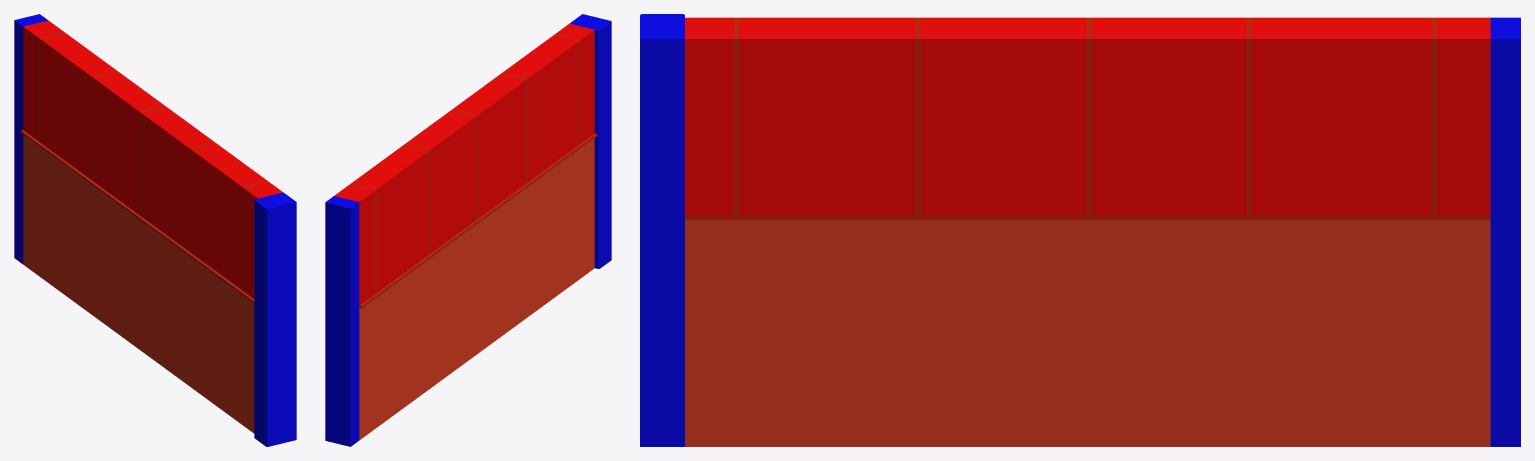
The model's file is BlankWall3.fbx.
3 views of the same model, side by side, from view 1: azimuth 30°, elevation 25°; view 2: azimuth 150°, elevation 25°; view 3: azimuth 270°, elevation 25° (orthographic). The views are drawn at different scales.
Visible parts, largest first — view 1: BlankWall2; view 2: BlankWall2; view 3: BlankWall2.
Part boxes in pixels (x1,y1,x2,y2): BlankWall2: [14, 14, 296, 446]; BlankWall2: [325, 14, 611, 446]; BlankWall2: [640, 14, 1520, 446].
Size of the model in its own units: 79.98 by 612 by 1197.
